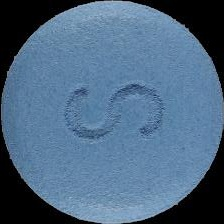54458-862: (0, 0, 224, 224)
